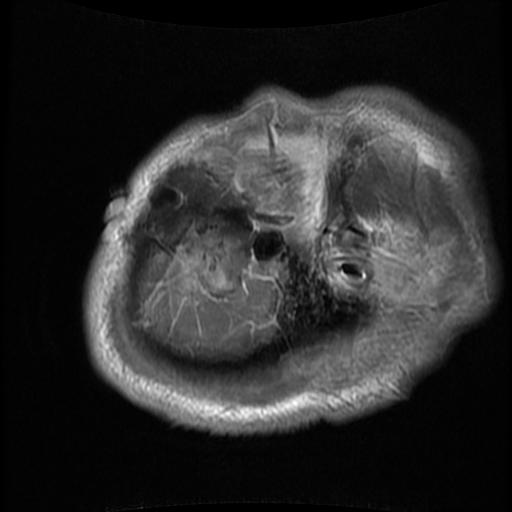glioma: (171, 223, 249, 308)
